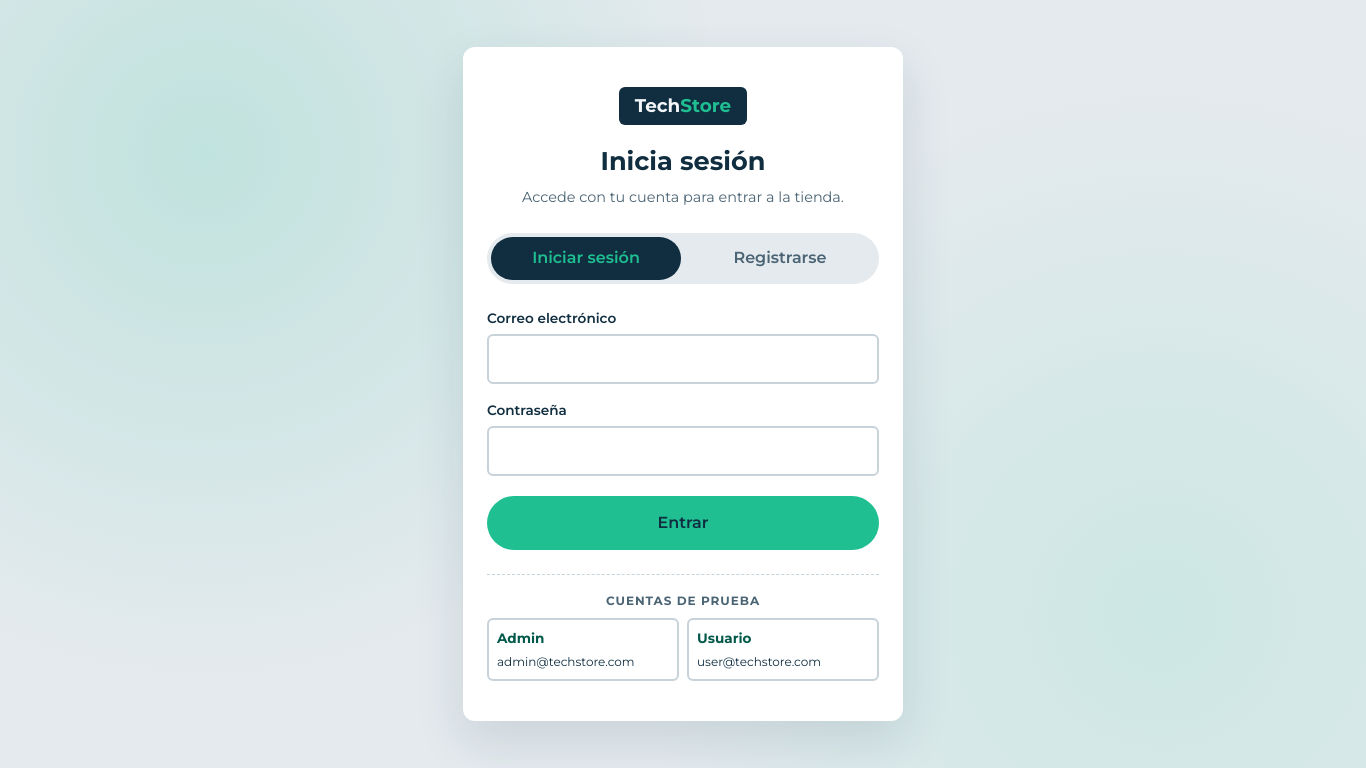
login obligatorio › muestra el error de la API con credenciales incorrectas
The width and height of the screenshot is (1366, 768).
Type "admin@techstore.com" into the field labelled "Correo electrónico" at x=683, y=359, box [487,334,879,384]
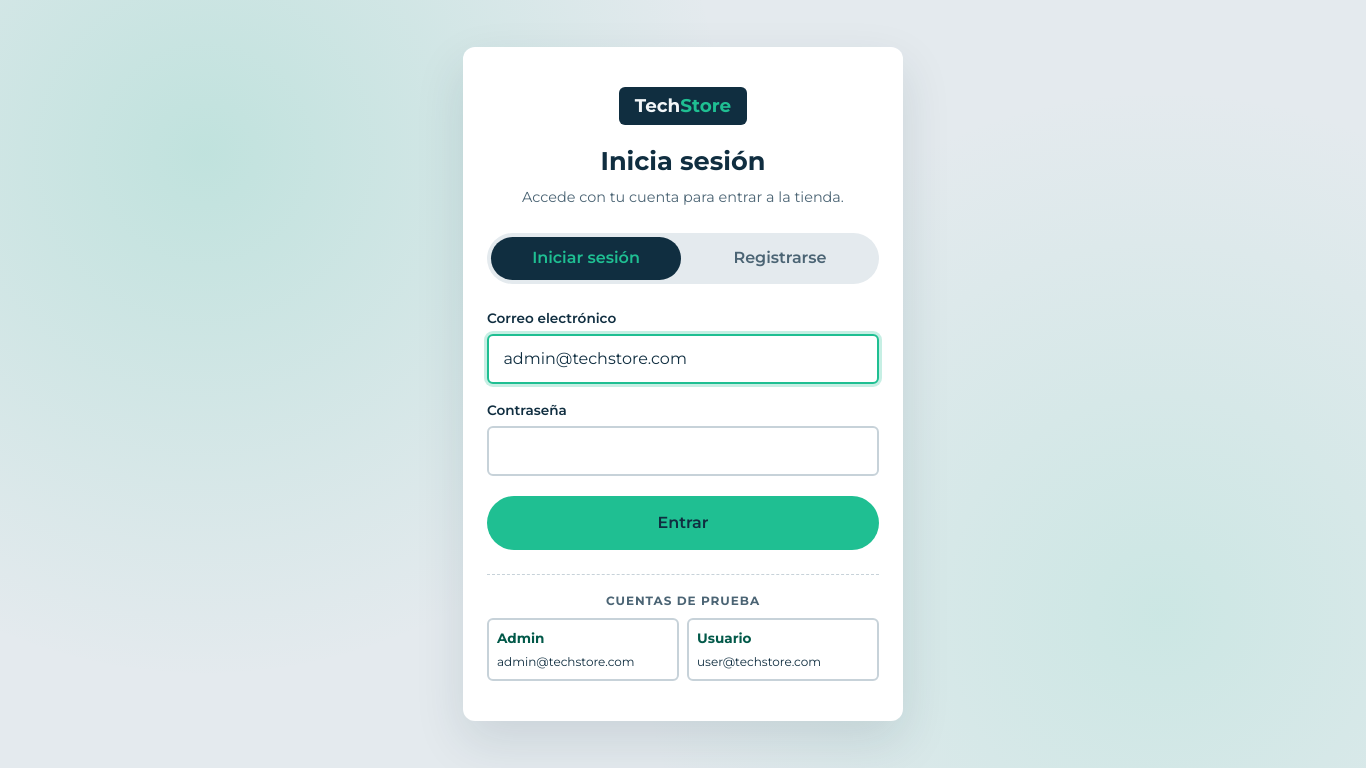
Type "mala" into the password field labelled "Contraseña" at x=683, y=451, box [487,426,879,476]
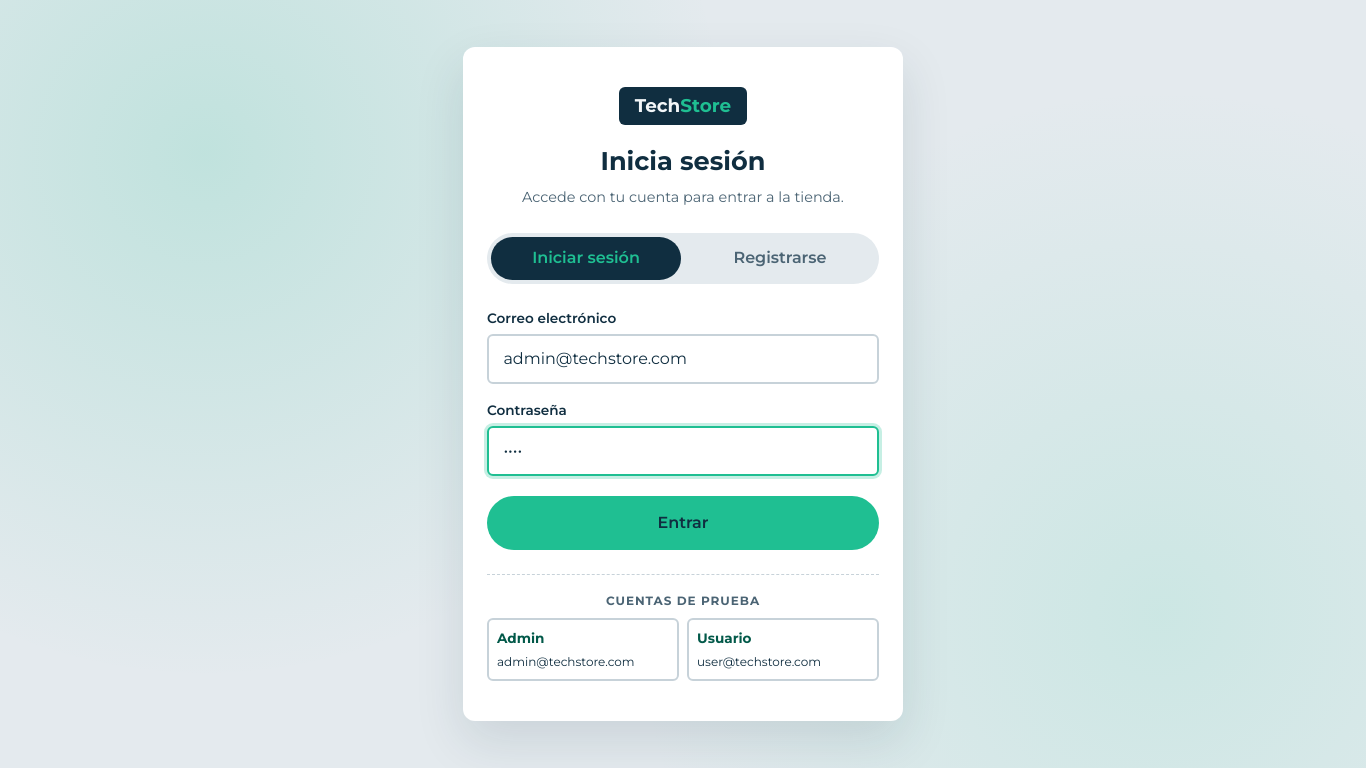
Click the button "Entrar" at x=683, y=523, box [487,496,879,550]
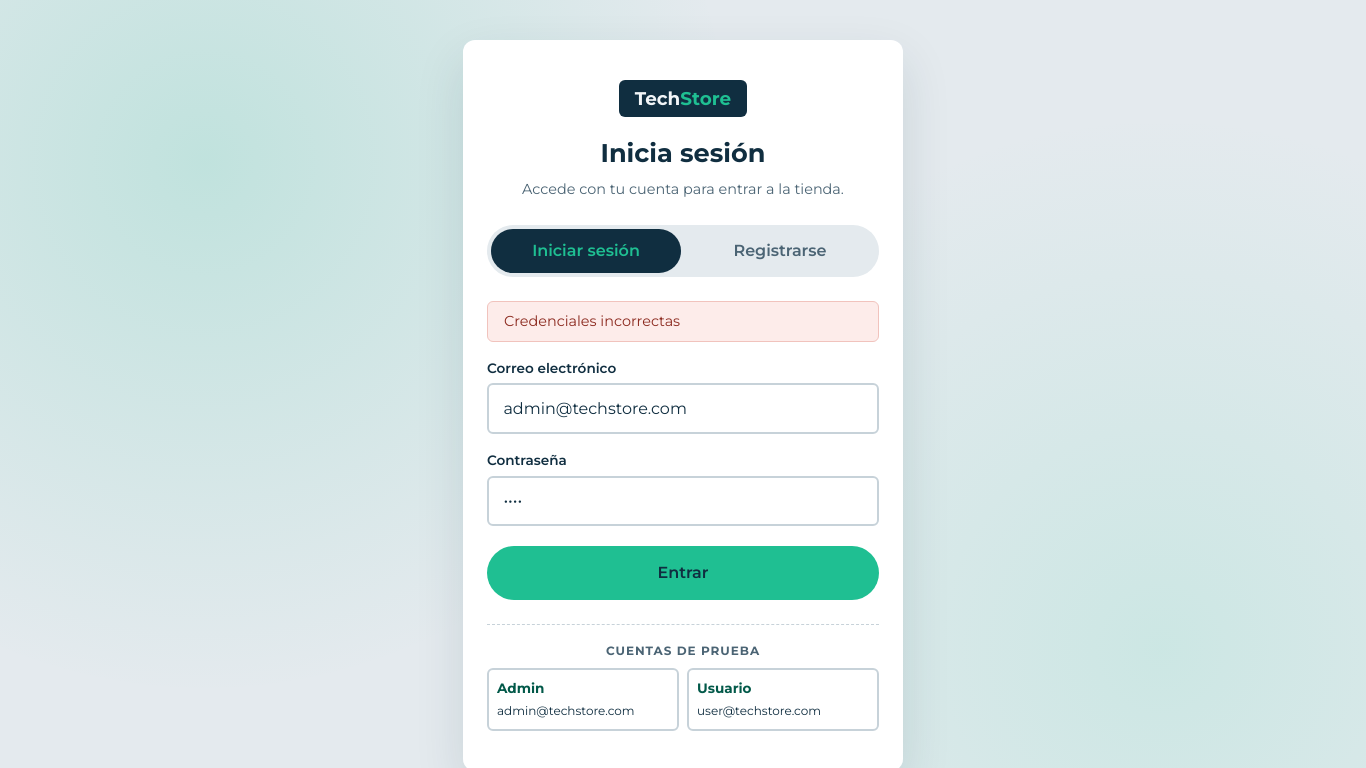
Expected: the message reads "Credenciales incorrectas", [504,312,680,330]
